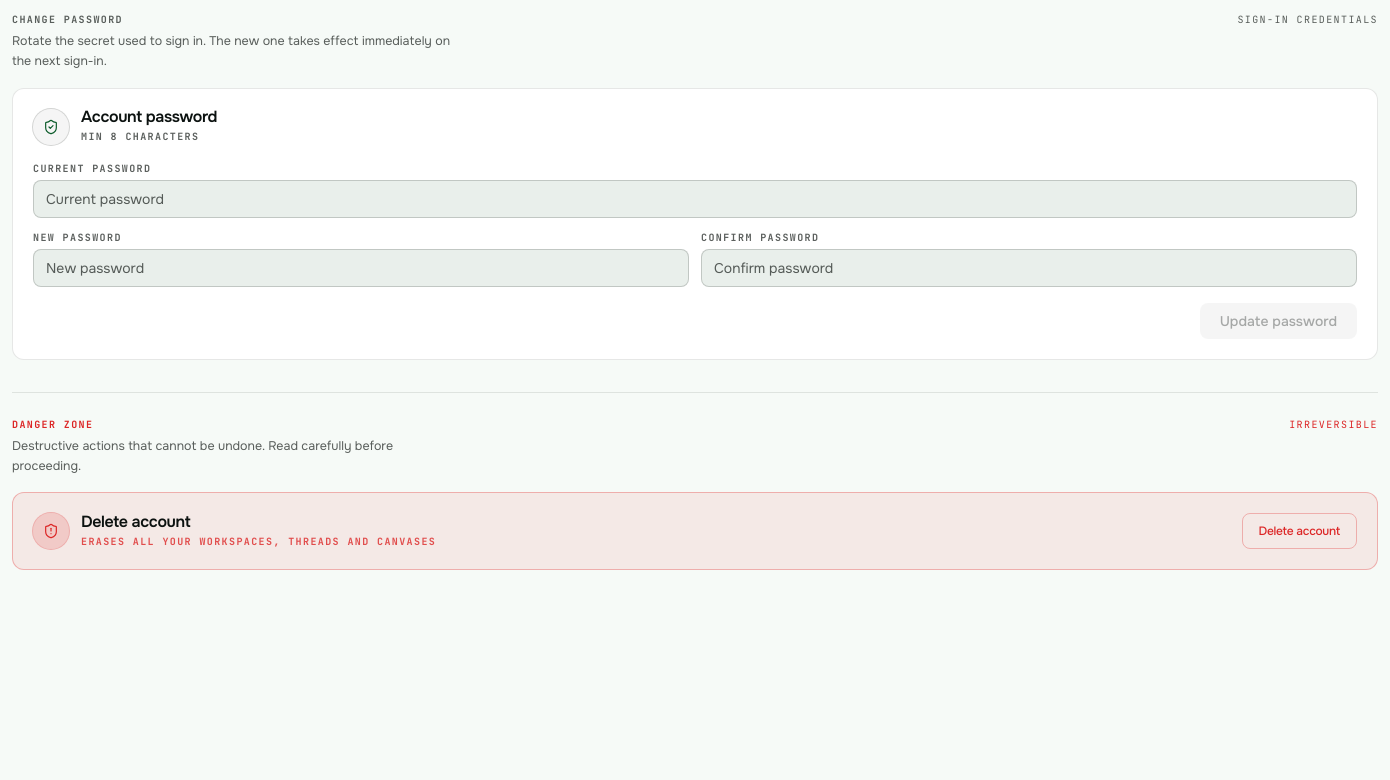
Test case: SecuritySection › GIVEN a filled form the server accepts › WHEN the password change is submitted › THEN the success shows and the fields clear
In the password field labelled "Current password": (695, 199) left=33, top=180, right=1357, bottom=218, type "old-secret-1"
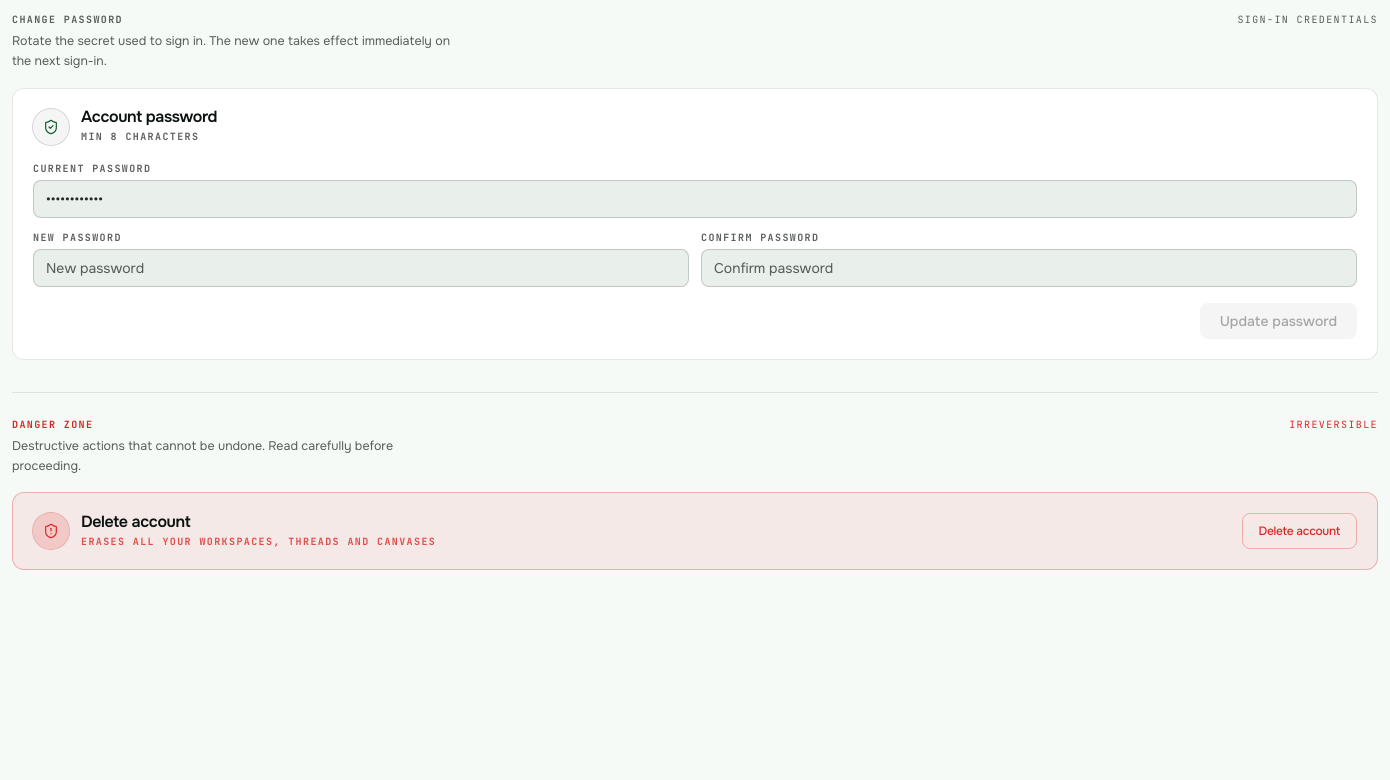
In the password field labelled "New password": (361, 268) left=33, top=249, right=689, bottom=287, type "new-secret-1"
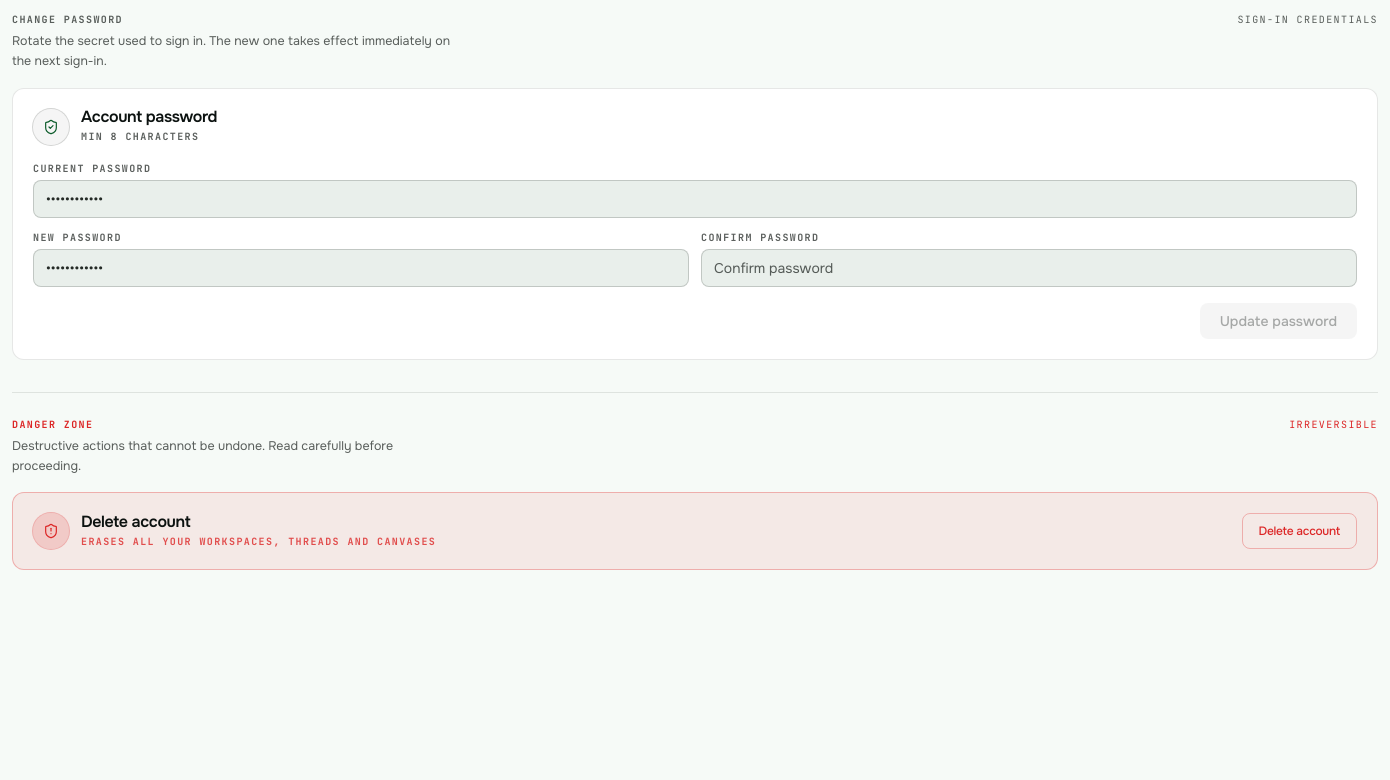
In the password field labelled "Confirm password": (1029, 268) left=701, top=249, right=1357, bottom=287, type "new-secret-1"
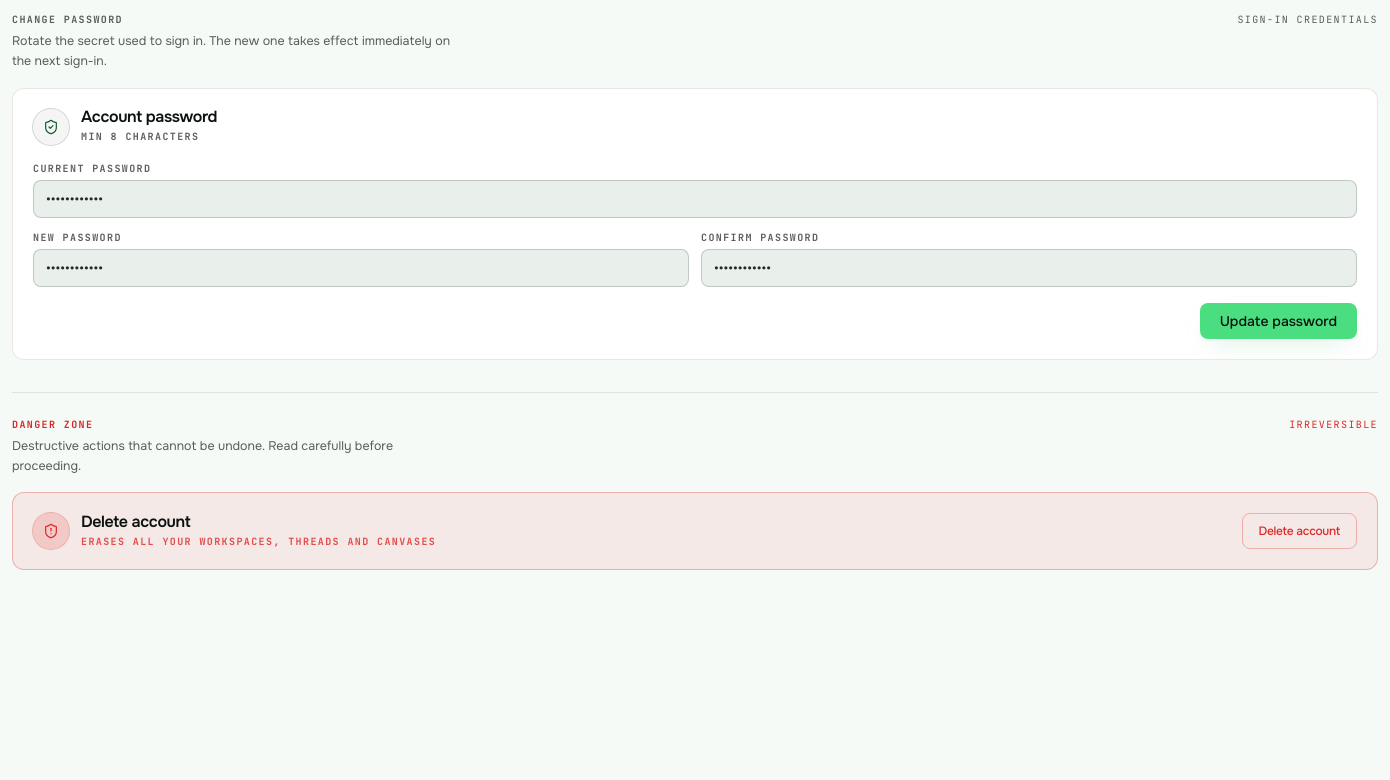
Click the button "Update password": (1278, 321) left=1200, top=303, right=1357, bottom=339
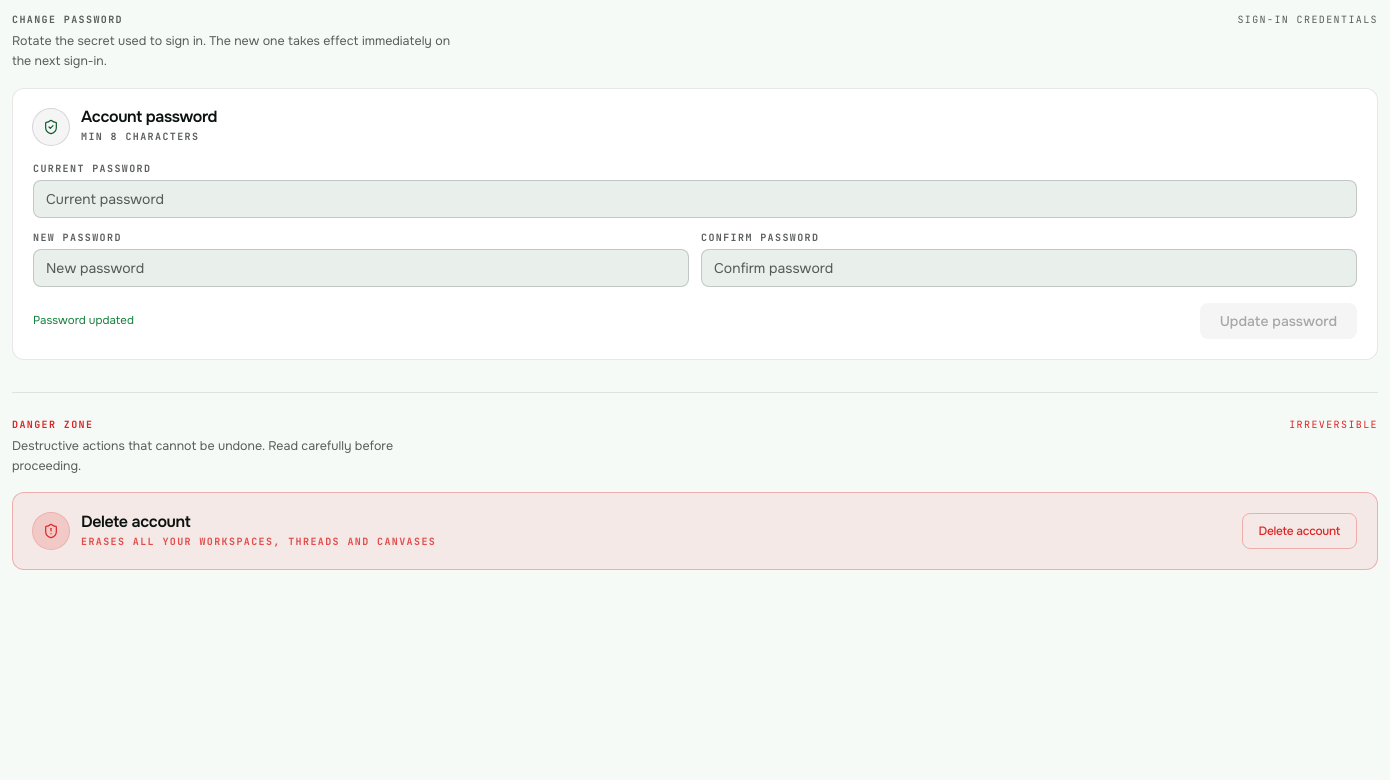
Now the text "Password updated" is shown, box left=33, top=313, right=134, bottom=328
Now the password field labelled "Current password" is empty, box left=33, top=180, right=1357, bottom=218
Now the password field labelled "Confirm password" is empty, box left=701, top=249, right=1357, bottom=287
